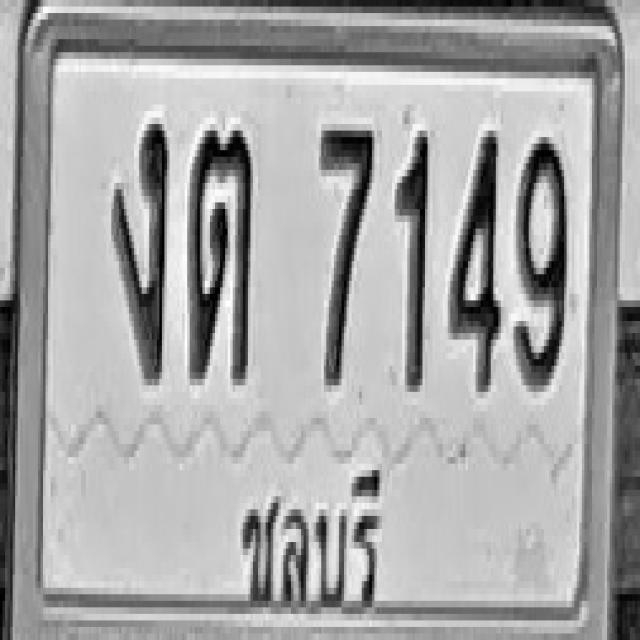1: (396, 124, 429, 392)
16NgorNgu: (113, 118, 168, 378)
30TorTao: (188, 124, 252, 385)
4: (448, 124, 501, 392)
7: (319, 124, 374, 385)
9: (514, 134, 566, 388)
Chonburi: (226, 443, 394, 631)
